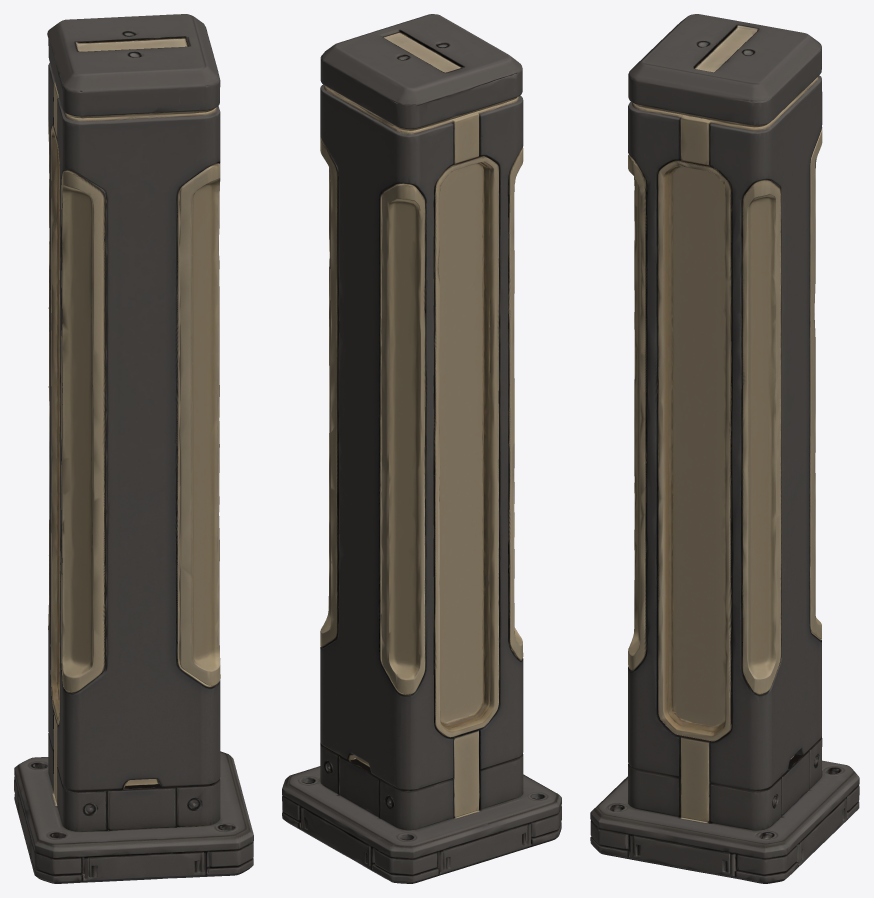
File: landing_beacon.glb
3 views of the same model, side by side, from view 1: azimuth 30°, elevation 25°; view 2: azimuth 150°, elevation 25°; view 3: azimuth 270°, elevation 25° (orthographic). The views are drawn at different scales.
Parts seen in each view (by area): view 1: tripo_node_b23a4827-cc1d-4f69-a059-c8d4507ba6e1; view 2: tripo_node_b23a4827-cc1d-4f69-a059-c8d4507ba6e1; view 3: tripo_node_b23a4827-cc1d-4f69-a059-c8d4507ba6e1.
Boxes of the visible parts, bbox=[...] form: tripo_node_b23a4827-cc1d-4f69-a059-c8d4507ba6e1: bbox=[14, 14, 253, 883]; tripo_node_b23a4827-cc1d-4f69-a059-c8d4507ba6e1: bbox=[282, 14, 561, 883]; tripo_node_b23a4827-cc1d-4f69-a059-c8d4507ba6e1: bbox=[590, 14, 859, 883].
Size of the model in its own units: 0.3083 by 0.9789 by 0.3063.
1 material, 1 textured.
